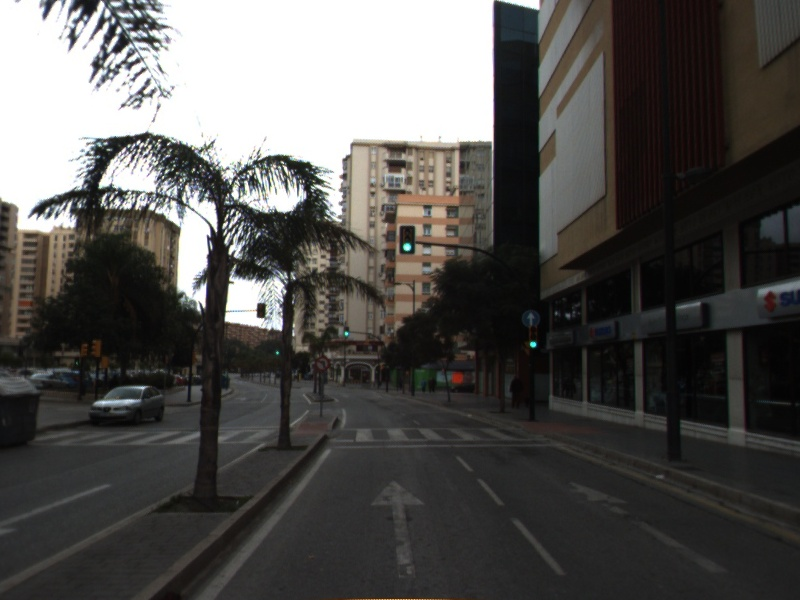STRAIGHT: (563, 476, 735, 577), (365, 475, 431, 582)
